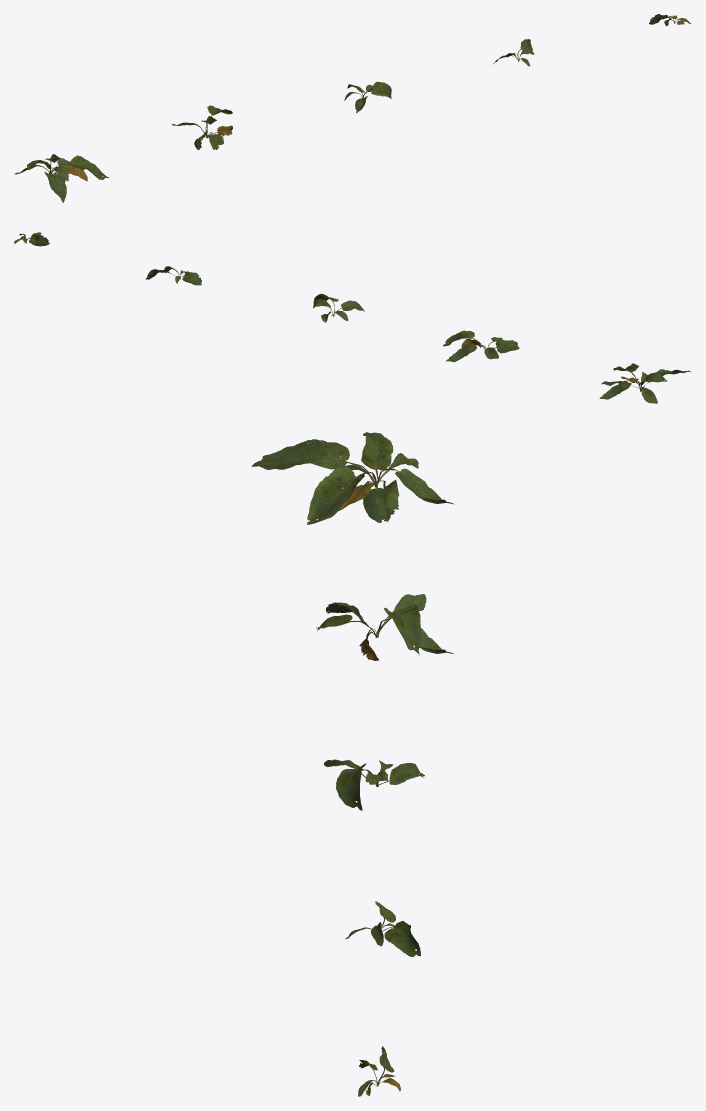
Rendered from weed.glb.
The picture shows the model from 3 angles, top to bottom: view 1: azimuth 30°, elevation 25°; view 2: azimuth 150°, elevation 25°; view 3: azimuth 270°, elevation 25°; orthographic projection. The views are drawn at different scales.
Visible parts, largest first — view 1: weed_plant_02_a_LOD0, weed_plant_02_b_LOD0, weed_plant_02_c_LOD0, weed_plant_02_d_LOD0; view 2: weed_plant_02_a_LOD0, weed_plant_02_b_LOD0, weed_plant_02_c_LOD0, weed_plant_02_d_LOD0, weed_plant_02_e_LOD0; view 3: weed_plant_02_a_LOD0, weed_plant_02_b_LOD0, weed_plant_02_c_LOD0, weed_plant_02_d_LOD0.
Part boxes in pixels (box(x1,y1,x2,y2)): weed_plant_02_a_LOD0: box(14, 154, 108, 202); weed_plant_02_b_LOD0: box(171, 105, 232, 149); weed_plant_02_c_LOD0: box(344, 81, 391, 113); weed_plant_02_d_LOD0: box(493, 39, 534, 66); weed_plant_02_a_LOD0: box(599, 363, 690, 403); weed_plant_02_b_LOD0: box(443, 330, 519, 362); weed_plant_02_c_LOD0: box(313, 294, 364, 322); weed_plant_02_d_LOD0: box(146, 266, 201, 285); weed_plant_02_e_LOD0: box(14, 232, 49, 246); weed_plant_02_a_LOD0: box(251, 432, 454, 524); weed_plant_02_b_LOD0: box(316, 594, 454, 660); weed_plant_02_c_LOD0: box(324, 759, 424, 810); weed_plant_02_d_LOD0: box(345, 901, 420, 956).
Size of the model in its own units: 2.13 by 0.0747 by 0.2909.
1 material, 1 textured.
